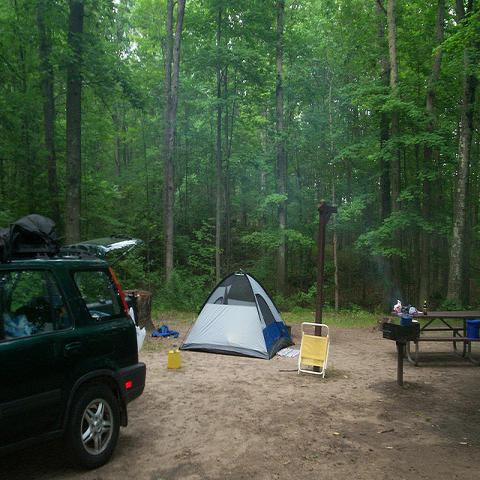car: (0, 232, 148, 466)
